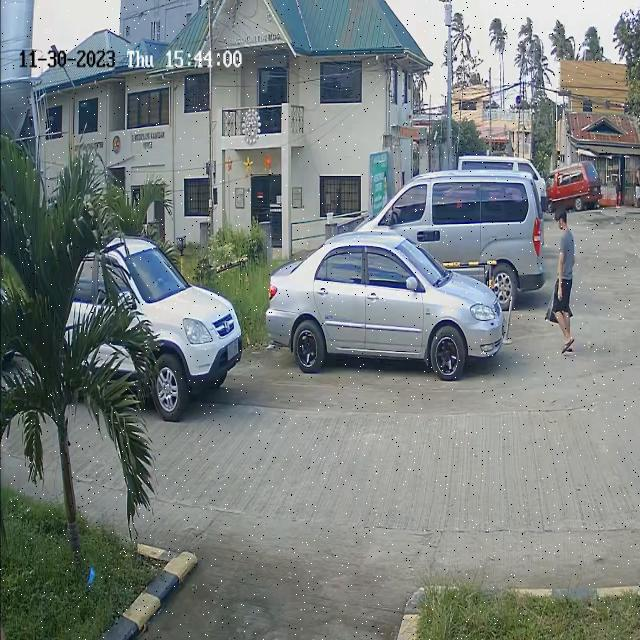garbage_dumping: (547, 272, 573, 326)
